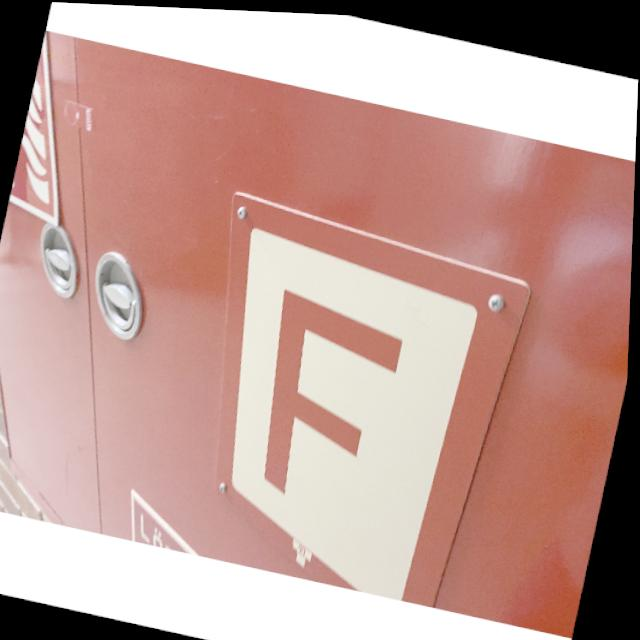fire extinguisher: (160, 186, 540, 611)
